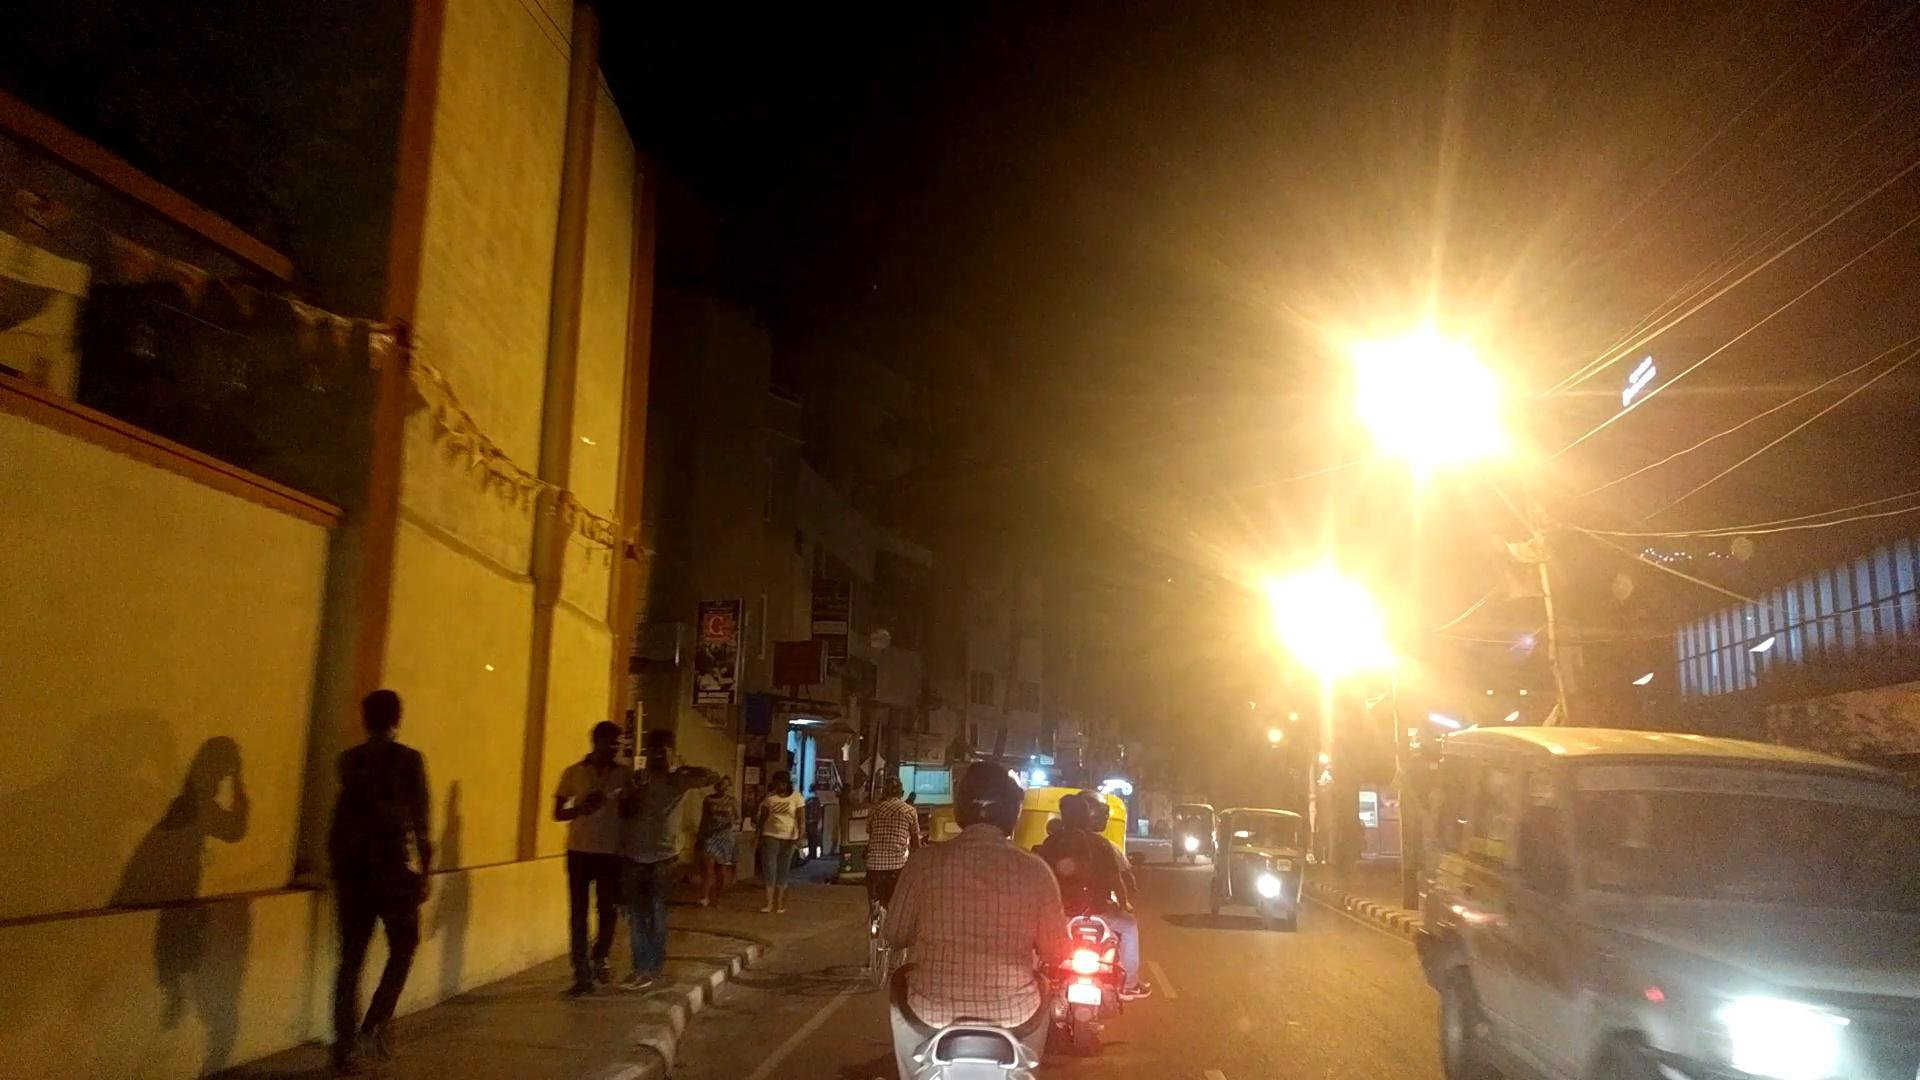on: (1189, 222, 1606, 756)
